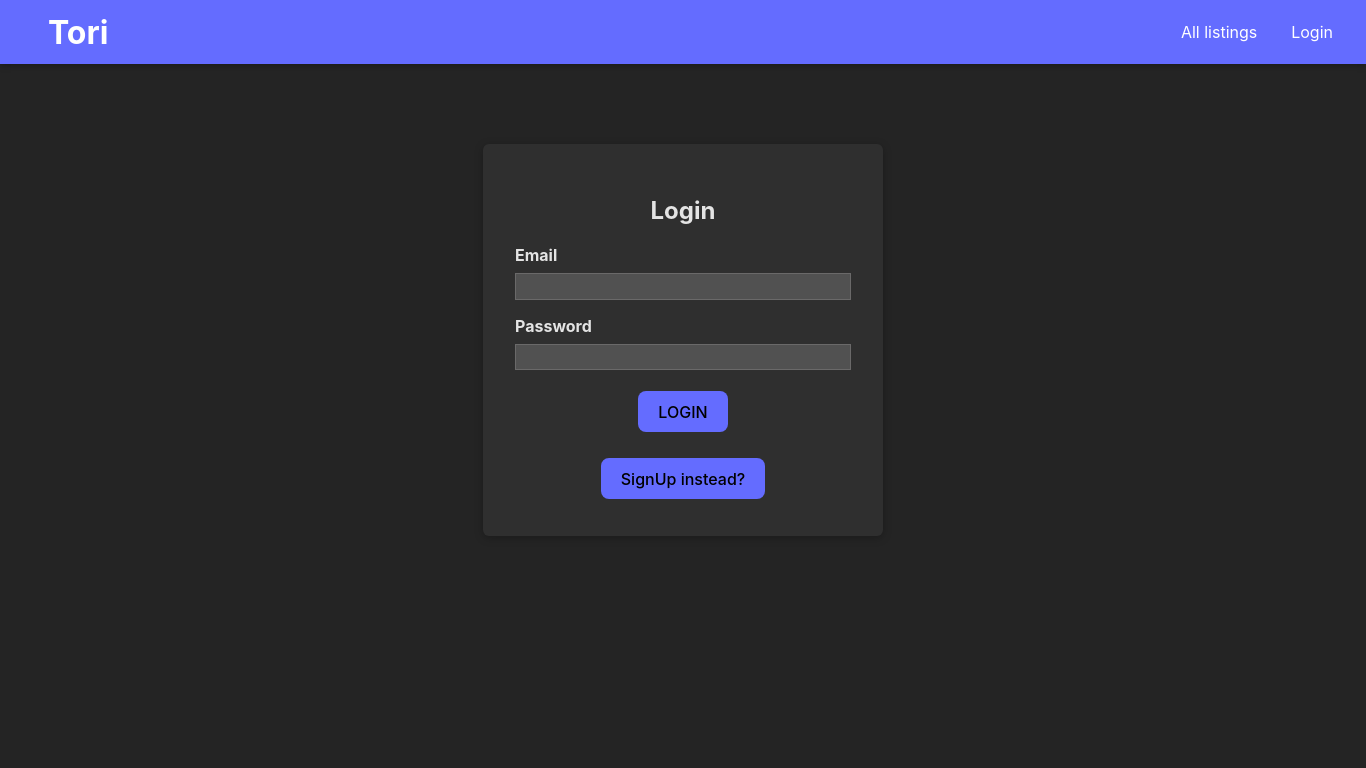
Test: Listings page › should show error message when signinup with too sort password
Click the button "SignUp instead?".
click(684, 479)  # box [601,458,766,499]
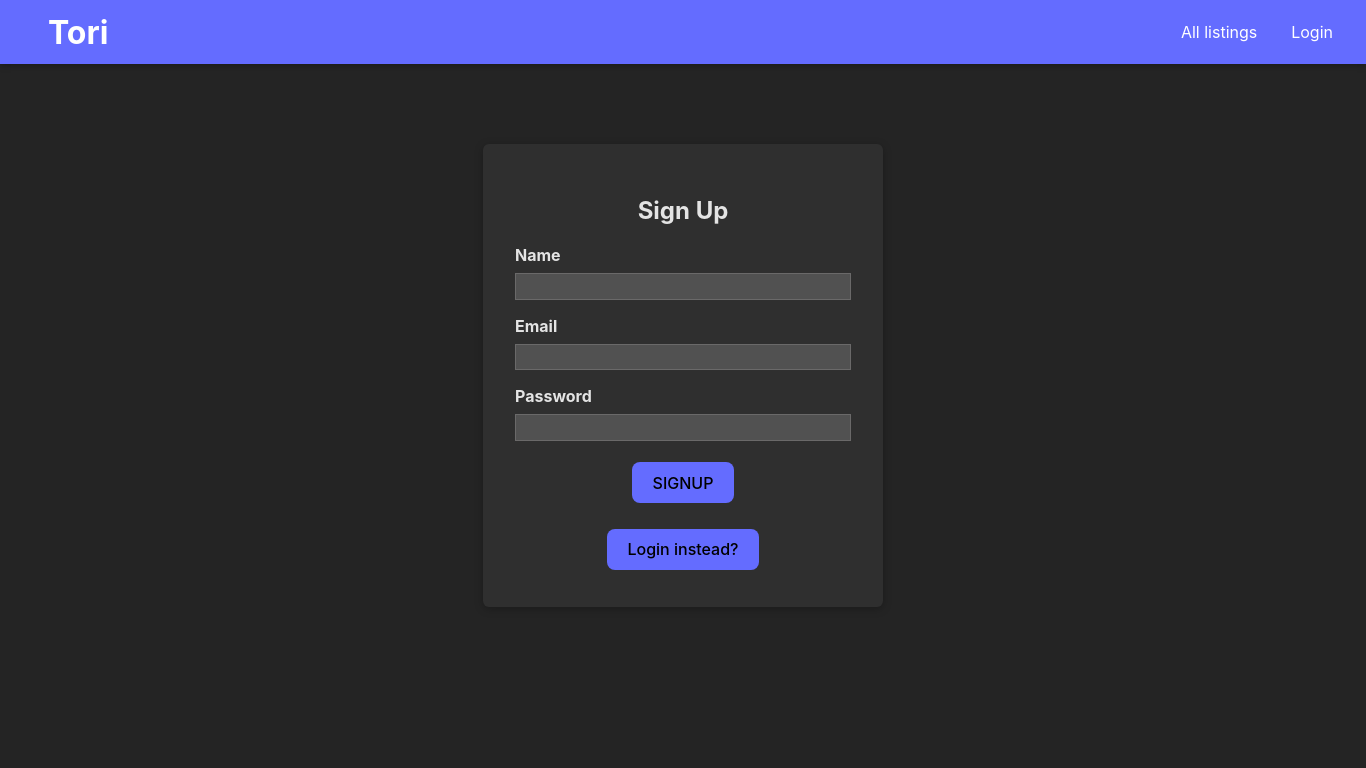
Type "Ilkka" into the field with id "name".
click(683, 287); type("Ilkka")  # box [515,273,851,300]
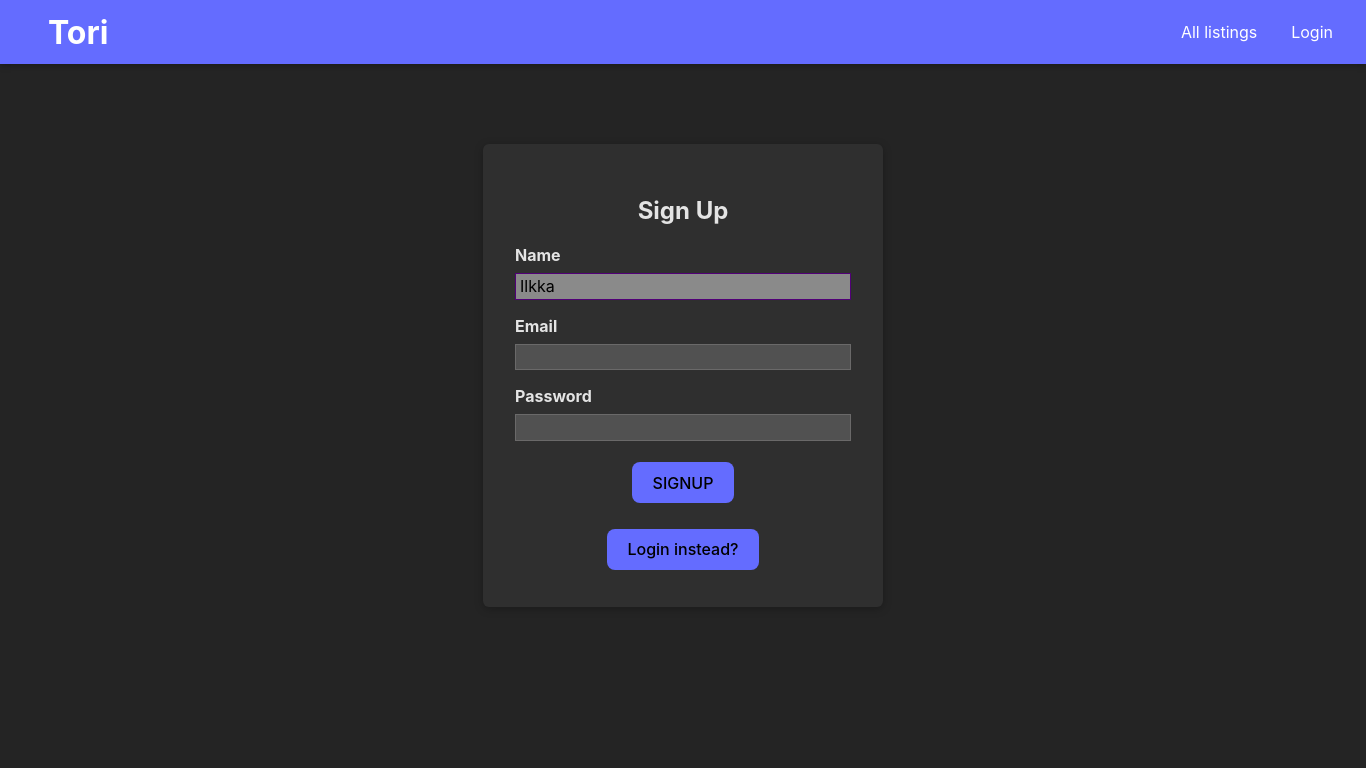
Type "tony@stark.com" into the field with id "email".
click(683, 358); type("tony@stark.com")  # box [515,344,851,371]
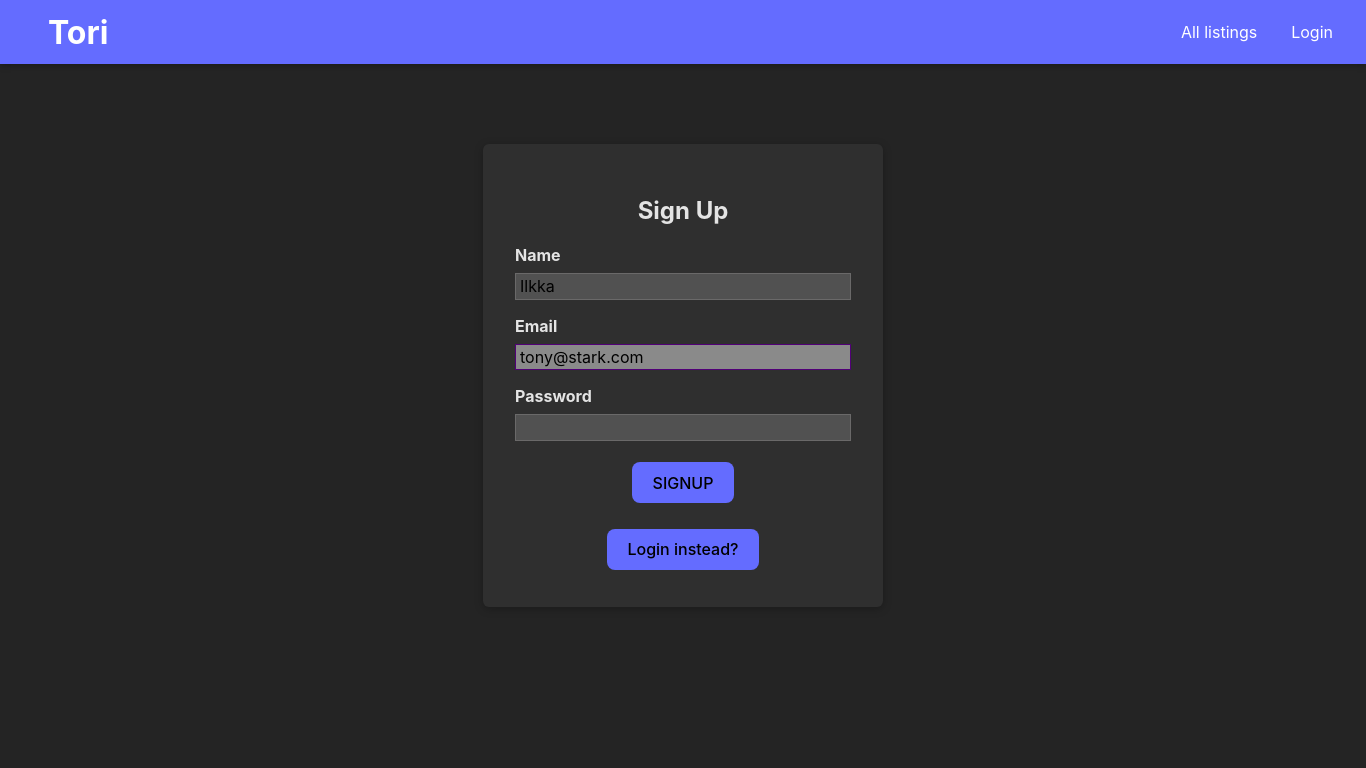
Type "1234" into the password field labelled "Password".
click(683, 428); type("1234")  # box [515,414,851,441]
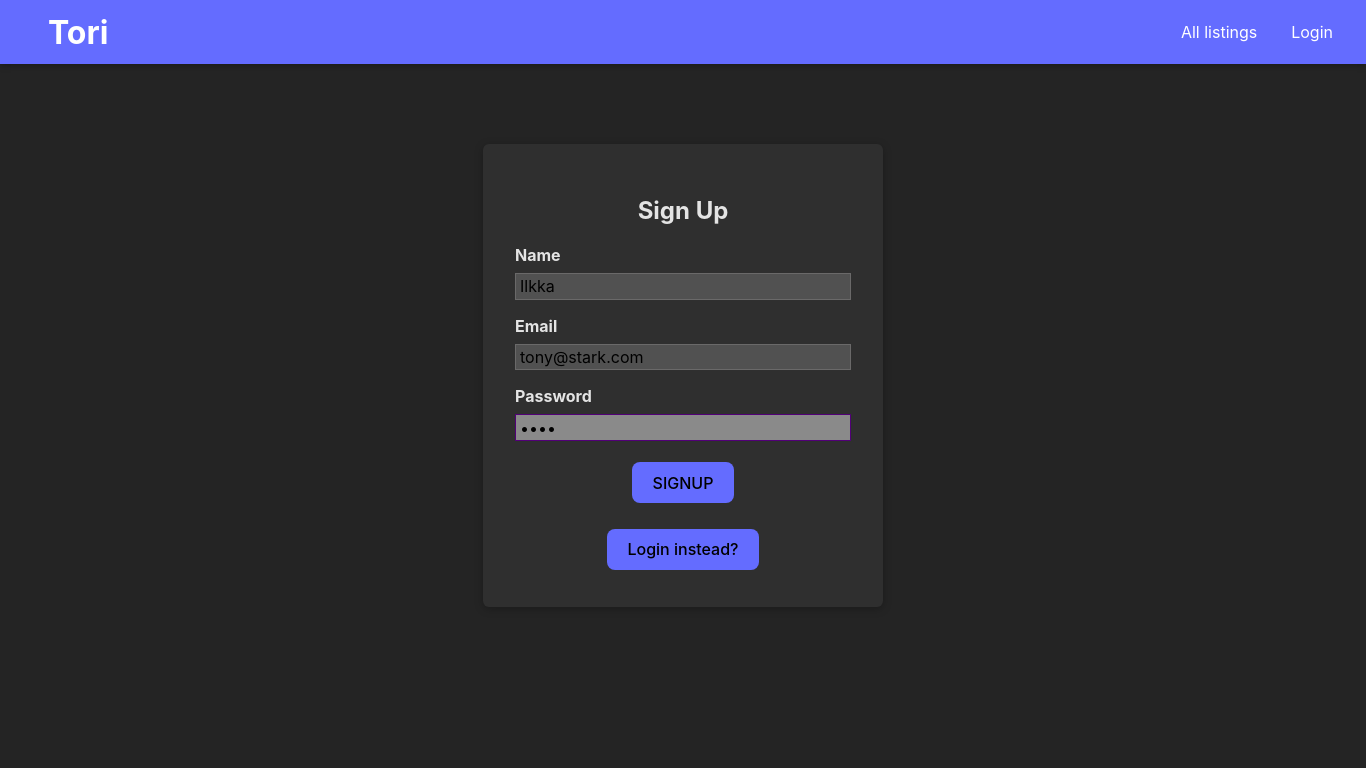
Click the button "SIGNUP".
click(683, 483)  # box [632,462,733,503]
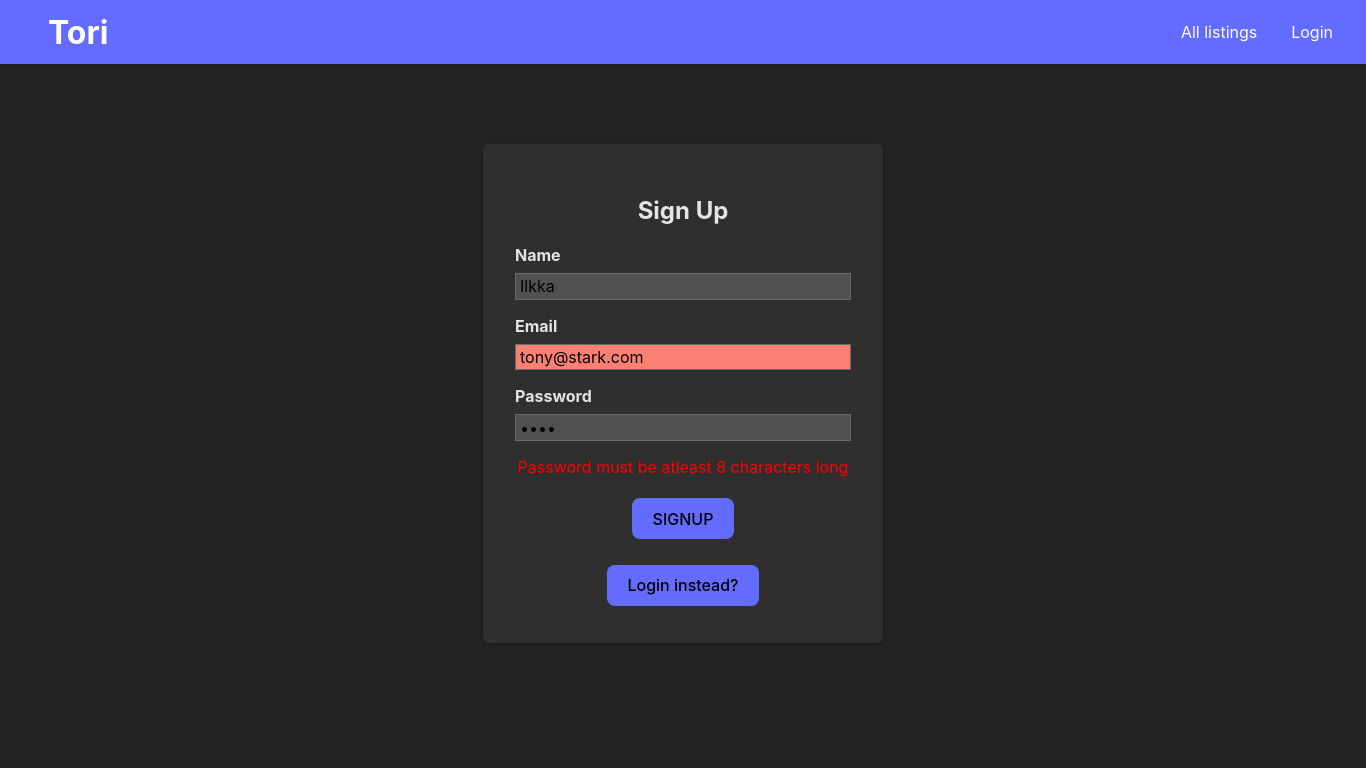
Expected: the text with test id "errorMsg" reads "Password must be atleast 8 characters long", [518,457,849,477]
